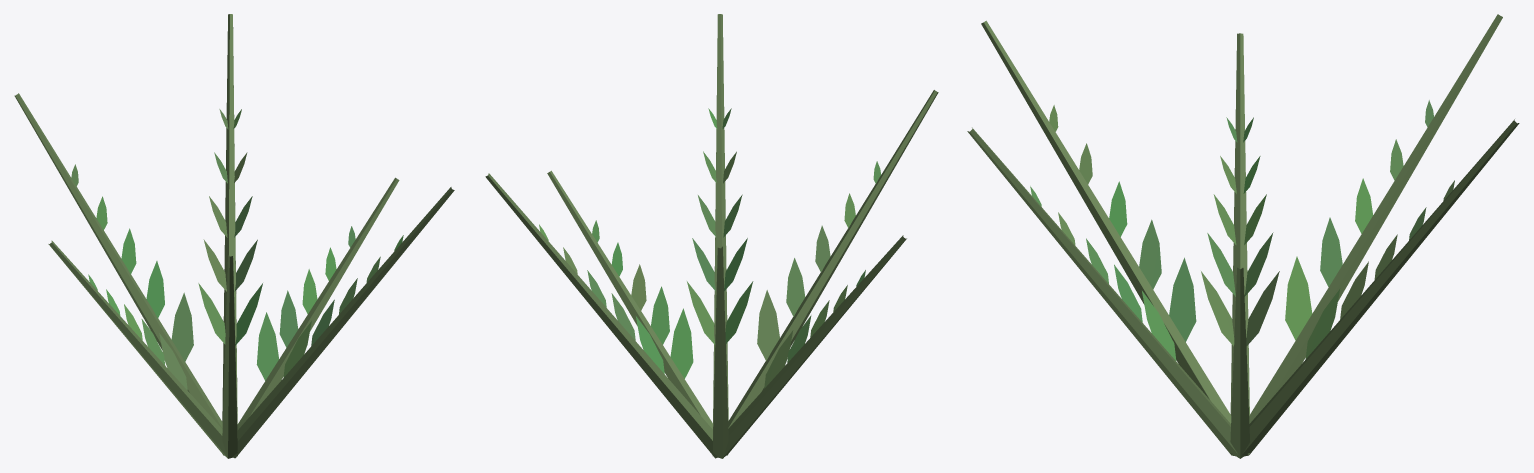
The model's file is fern-01.glb.
The picture shows the model from 3 angles, left to right: view 1: azimuth 30°, elevation 25°; view 2: azimuth 150°, elevation 25°; view 3: azimuth 270°, elevation 25°; orthographic projection. The views are drawn at different scales.
Parts seen in each view (by area): view 1: part_000; view 2: part_000; view 3: part_000.
Part boxes in pixels (<box>): part_000: <box>14,14,454,458</box>; part_000: <box>485,14,938,458</box>; part_000: <box>967,14,1519,458</box>.
Bounding box in the file's own units: 0.5938 × 0.5367 × 0.6662.
